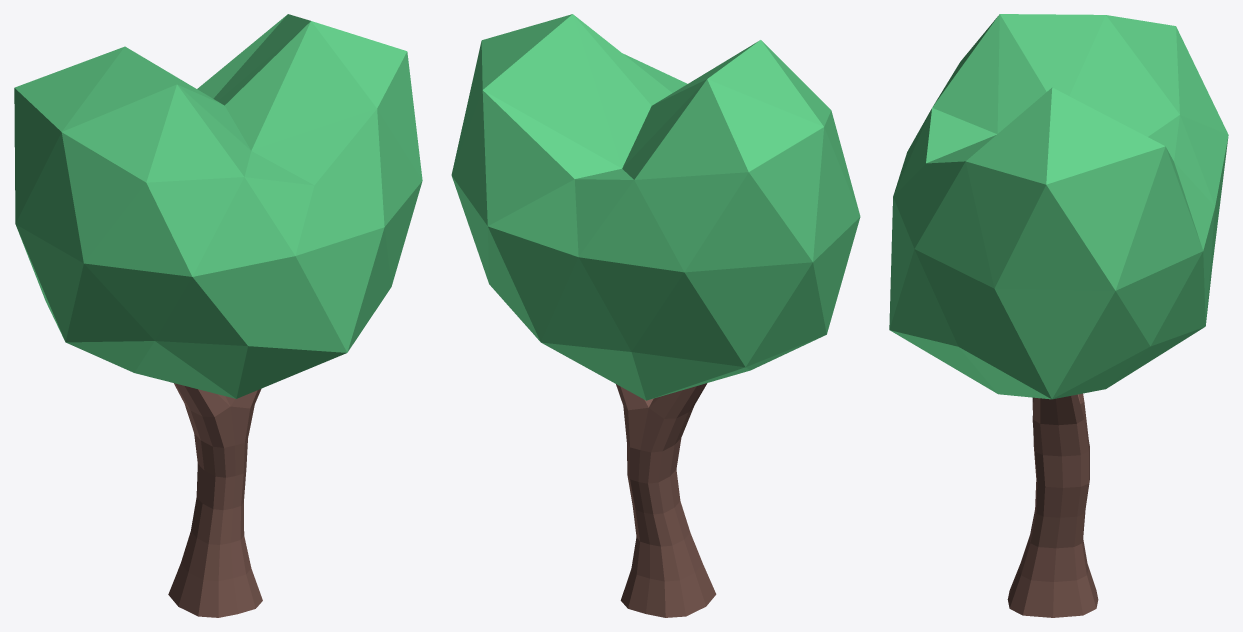
Rendered from drzewo_7.fbx.
3 renders of one model, left to right at view 1: azimuth 30°, elevation 25°; view 2: azimuth 150°, elevation 25°; view 3: azimuth 270°, elevation 25°, orthographic.
Visible parts, largest first — view 1: Cube.001; view 2: Cube.001; view 3: Cube.001.
Part boxes in pixels (bbox=[...]): Cube.001: bbox=[14, 14, 422, 617]; Cube.001: bbox=[451, 14, 860, 617]; Cube.001: bbox=[889, 14, 1228, 617].
Bounding box in the file's own units: 1810 × 2661 × 1464.
